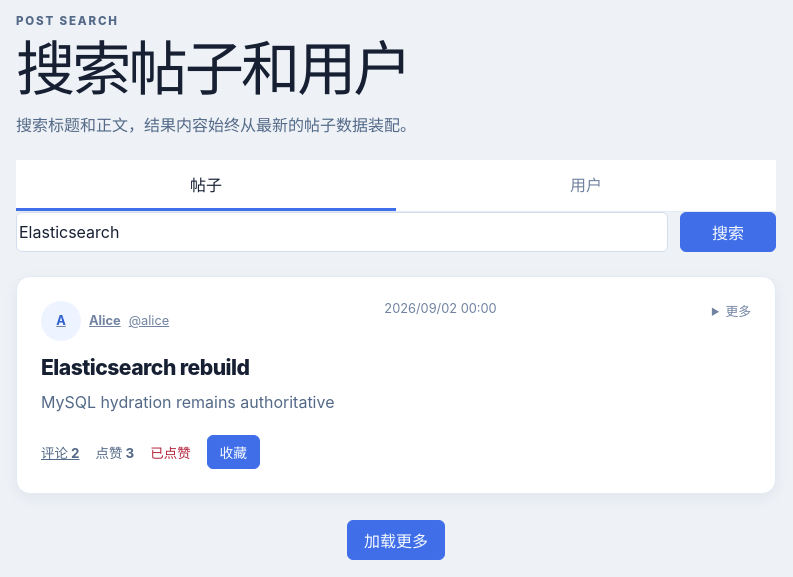
Test case: SearchView pagination recovery › clears an invalid pagination snapshot and restarts once without the stale cursor
Click the button "加载更多". click: (396, 540)
box: [347,520,445,560]
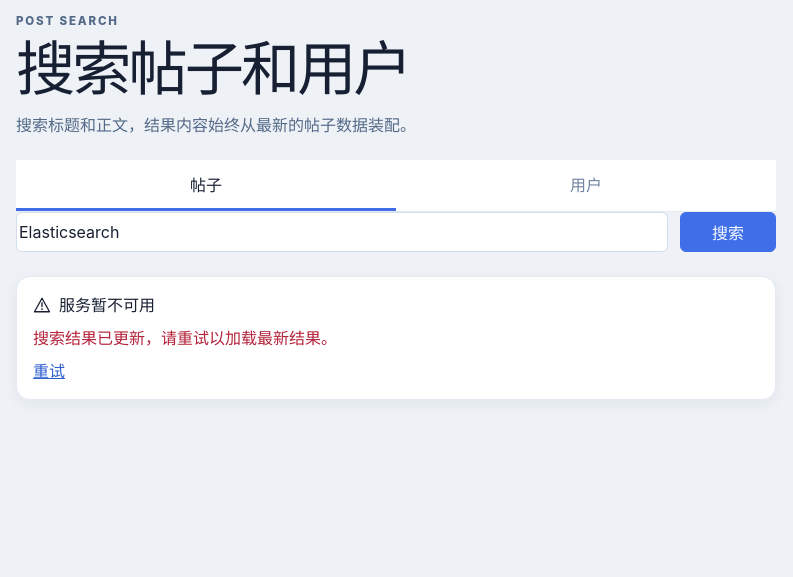
Result: the text "搜索结果已更新" is shown at [33,328,337,348]
Result: the text "Elasticsearch rebuild" is gone
Click the button with class "inline-action". click: (49, 371)
box: [33,358,65,383]
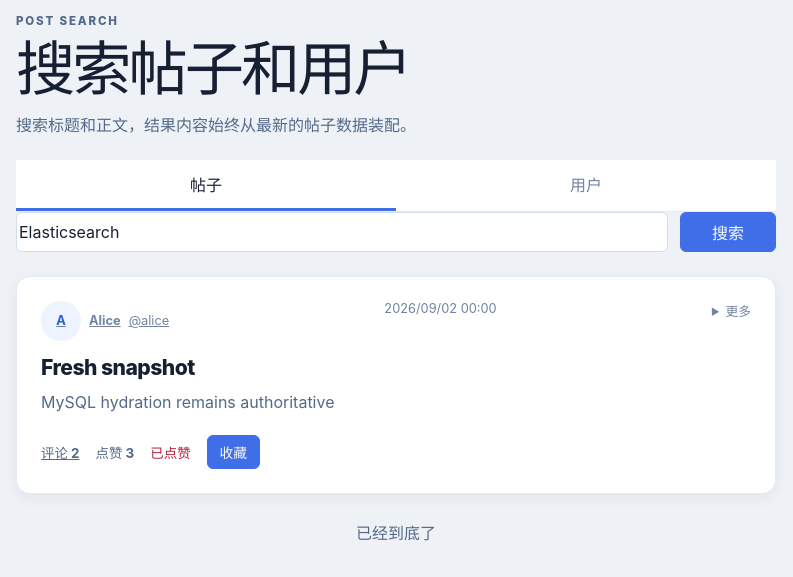
Result: the text "Fresh snapshot" is shown at [41,355,195,380]
